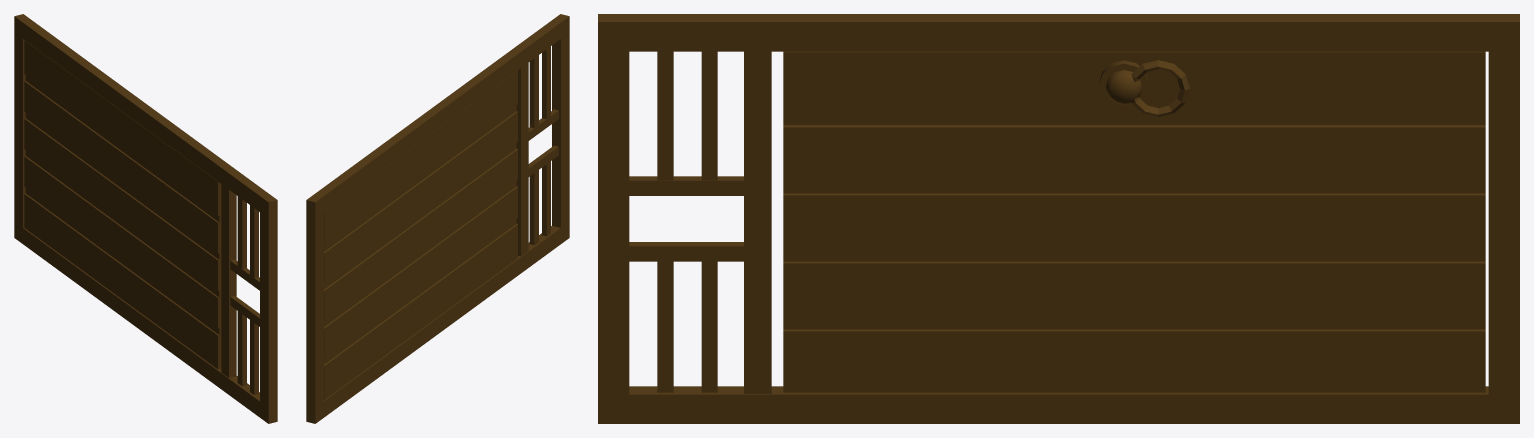
File: BP_Street_Door_1_low (2).fbx
3 renders of one model, left to right at view 1: azimuth 30°, elevation 25°; view 2: azimuth 150°, elevation 25°; view 3: azimuth 270°, elevation 25°, orthographic. The views are drawn at different scales.
Visible parts, largest first — view 1: BP_Street_Door_1_low (2); view 2: BP_Street_Door_1_low (2); view 3: BP_Street_Door_1_low (2).
Part boxes in pixels (x1,y1,x2,y2): BP_Street_Door_1_low (2): [14, 14, 277, 423]; BP_Street_Door_1_low (2): [306, 14, 569, 423]; BP_Street_Door_1_low (2): [598, 14, 1519, 423].
Size of the model in its own units: 0.1722 by 1.88 by 3.91.
